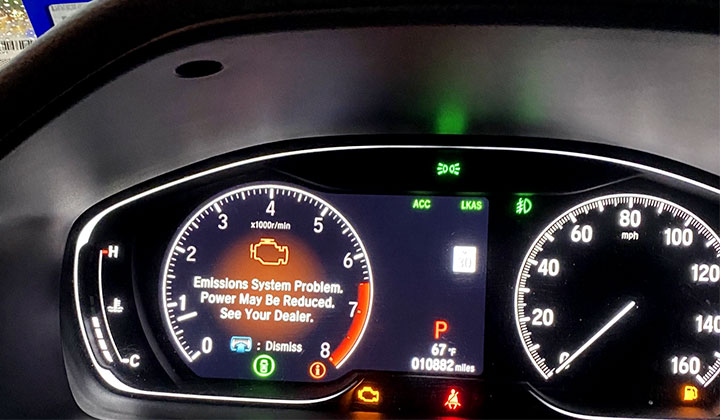Engine_emissions: (248, 235, 293, 269)
